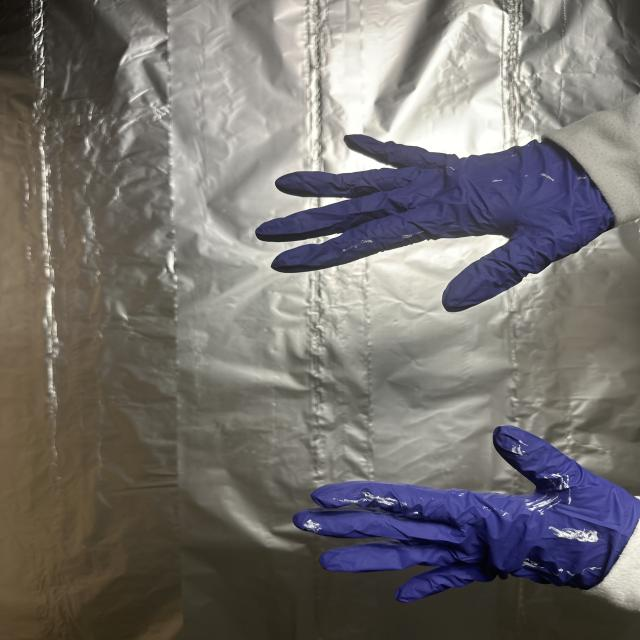gloves_contaminated: (256, 135, 614, 312), (294, 426, 640, 606)
